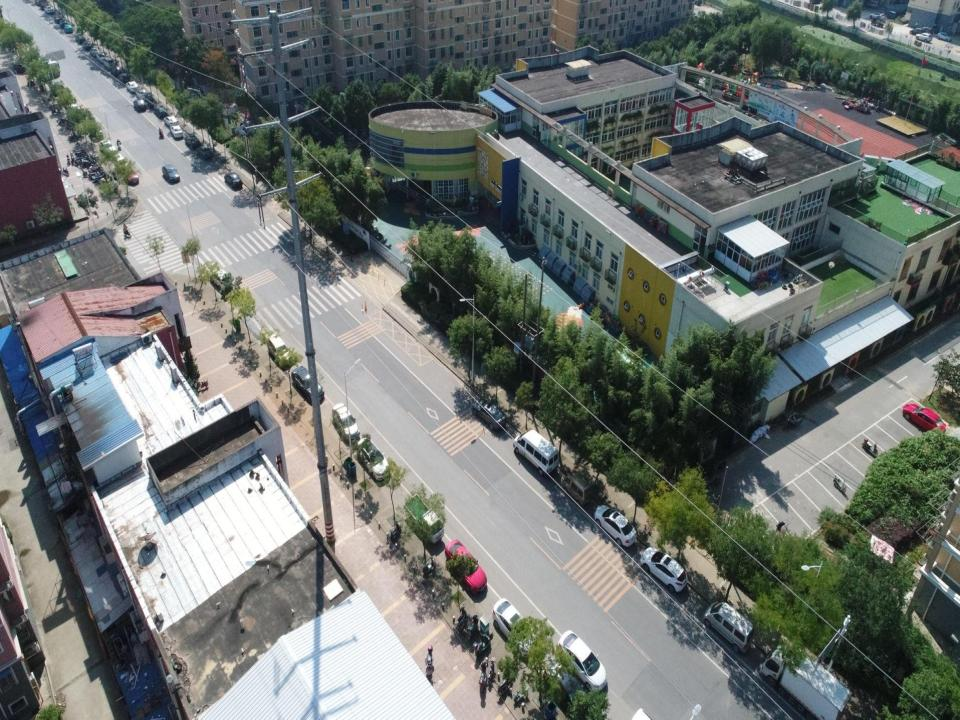car: (556, 628, 606, 694), (543, 657, 590, 714), (492, 597, 536, 657), (642, 545, 688, 594), (594, 503, 638, 548), (902, 402, 947, 438), (356, 436, 390, 481), (291, 364, 325, 404), (471, 395, 507, 431), (332, 402, 360, 444), (267, 333, 291, 368), (210, 268, 233, 294), (121, 160, 140, 187), (161, 164, 181, 184), (223, 172, 244, 191), (97, 138, 116, 158), (196, 144, 212, 161), (184, 133, 201, 149), (169, 123, 184, 141), (124, 77, 139, 93), (116, 66, 130, 83), (12, 62, 29, 76), (143, 91, 156, 109), (914, 32, 933, 44), (154, 104, 168, 119), (164, 114, 179, 127), (912, 26, 933, 35), (133, 98, 146, 112), (937, 29, 951, 42), (102, 56, 114, 70), (74, 30, 85, 44), (868, 12, 883, 22), (96, 50, 106, 63), (53, 9, 63, 21), (58, 16, 68, 28), (63, 21, 73, 32), (82, 39, 92, 49), (89, 46, 99, 56), (44, 3, 53, 14)
truck: (761, 642, 852, 719), (444, 538, 487, 595), (403, 493, 445, 544)
van: (703, 598, 754, 654), (513, 428, 560, 476), (560, 472, 593, 508)
